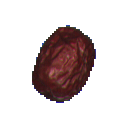gd: (22, 17, 111, 105)
